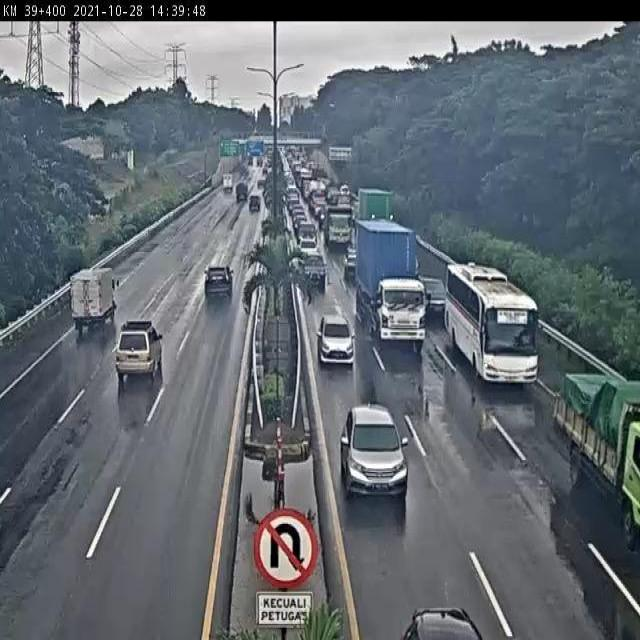big bus: (444, 253, 540, 395)
big truck: (355, 218, 423, 346)
car: (339, 401, 408, 515), (114, 315, 167, 381), (316, 313, 356, 372), (204, 258, 235, 310), (417, 267, 448, 317), (300, 250, 331, 298), (342, 243, 359, 280)
small truck: (70, 256, 120, 340)
truck-m-: (547, 362, 640, 546)
